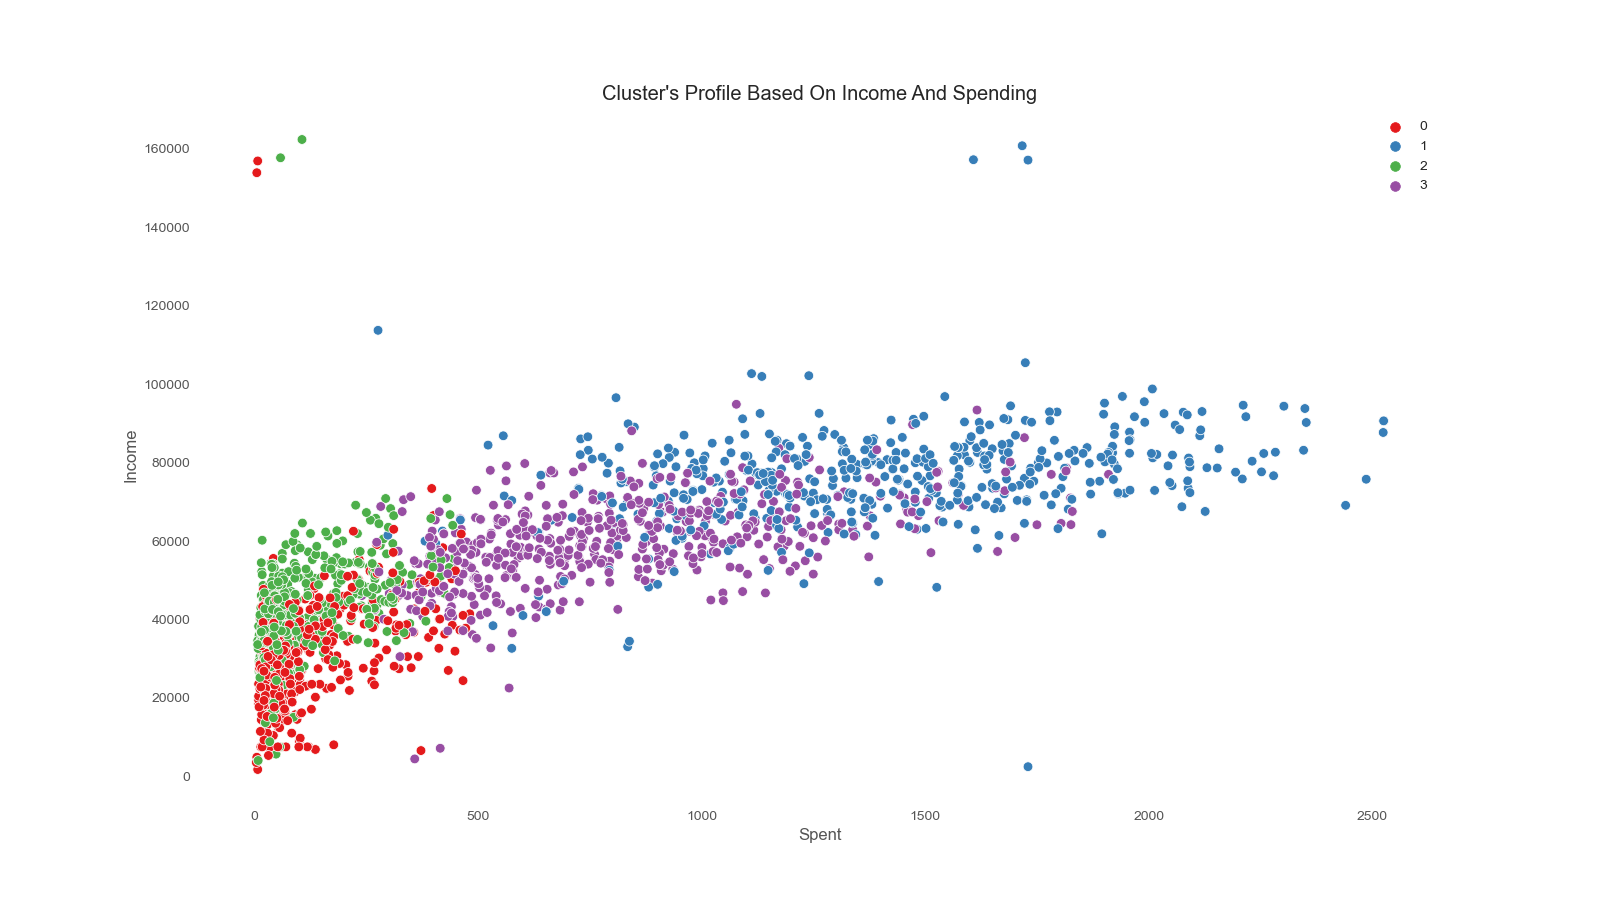

The page's visual inventory and layout, read from the dashboard file:
{"tool":"powerbi","page":{"name":"Page 1","canvas":[1280,720],"ordinal":2},"visuals":[{"type":"pythonVisual","fields":{"Values":["Global YouTube Statistics.channel_type","Sum(Global YouTube Statistics.uploads)","Global YouTube Statistics.Creation Date.Variation.Date Hierarchy.Year"]},"box":[85.3,48.1,1064.7,622],"z":0}]}

Visuals, with their boxes in screenshot pixels (x1, y1, x2, y2), scaled from the page's 1280x720 canvas onto the 1600x900 screenshot:
pythonVisual - Global YouTube Statistics.channel_type x Sum(Global YouTube Statistics.uploads): l=107, t=60, r=1438, b=838
